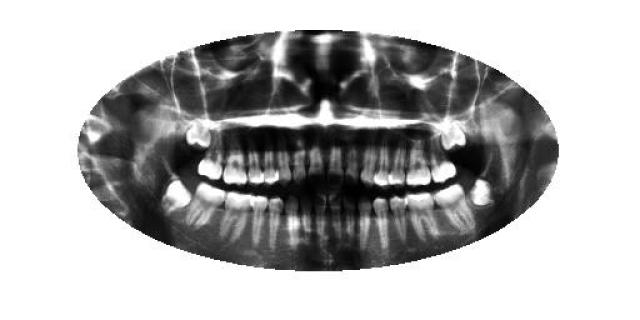Restorations: (158, 176, 194, 216), (182, 120, 214, 151), (470, 175, 499, 209), (440, 120, 468, 151)
